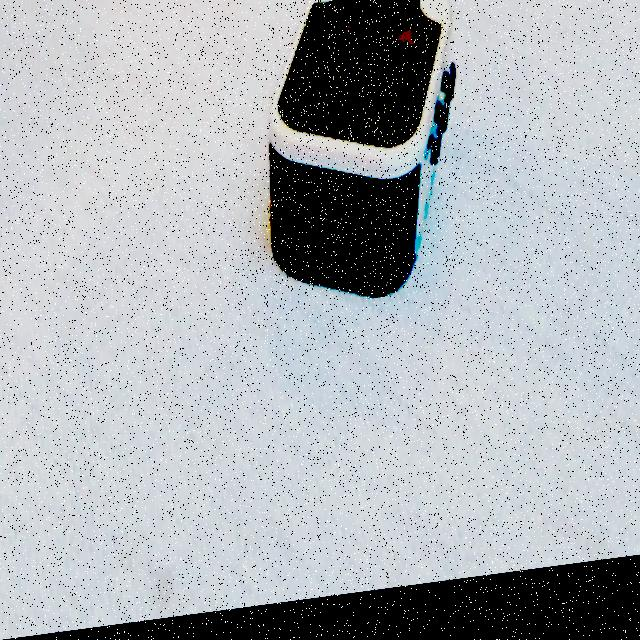adapter: (264, 0, 458, 317)
